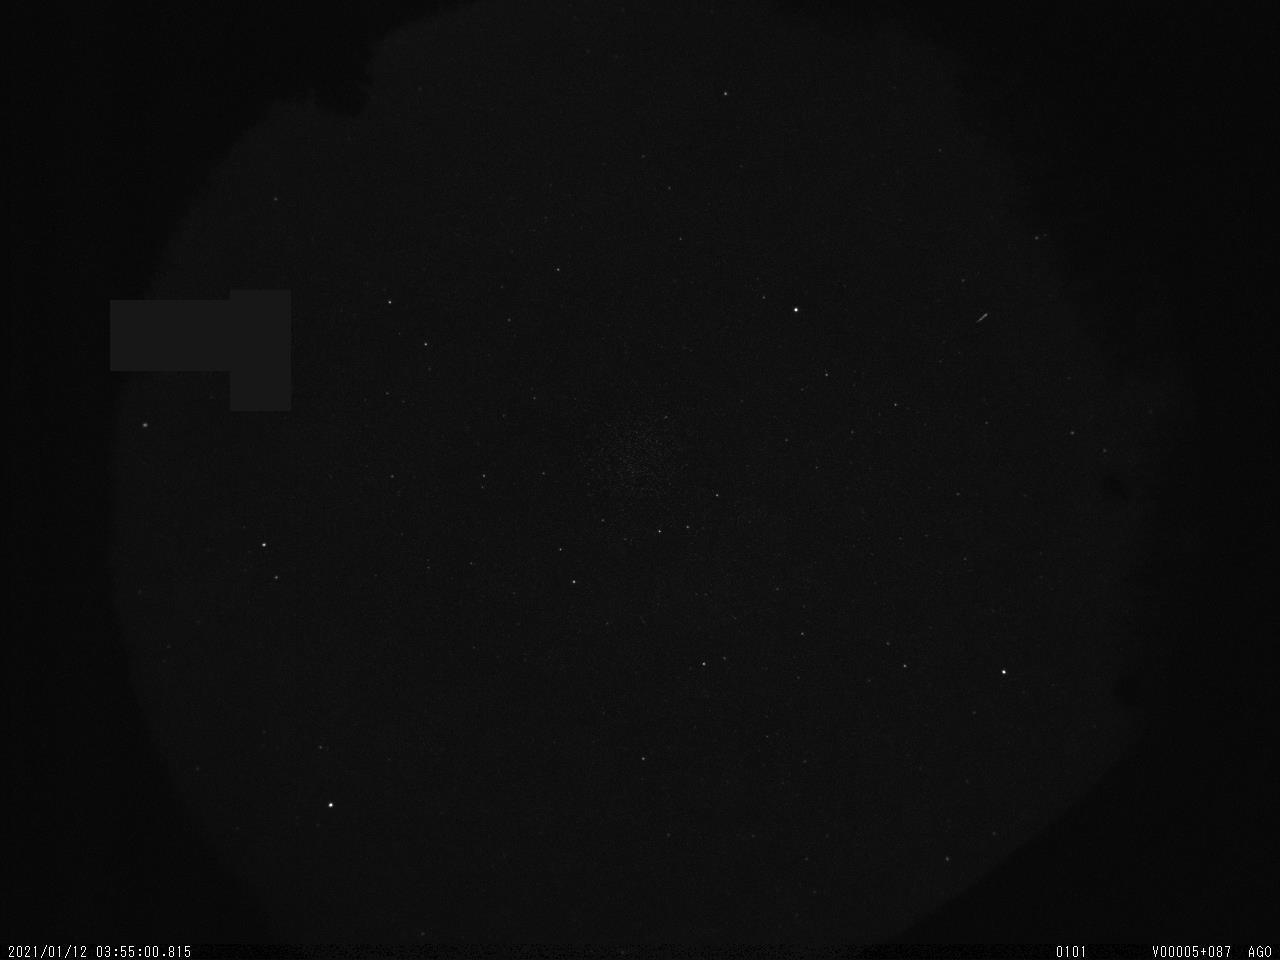meteor: (964, 305, 999, 328)
